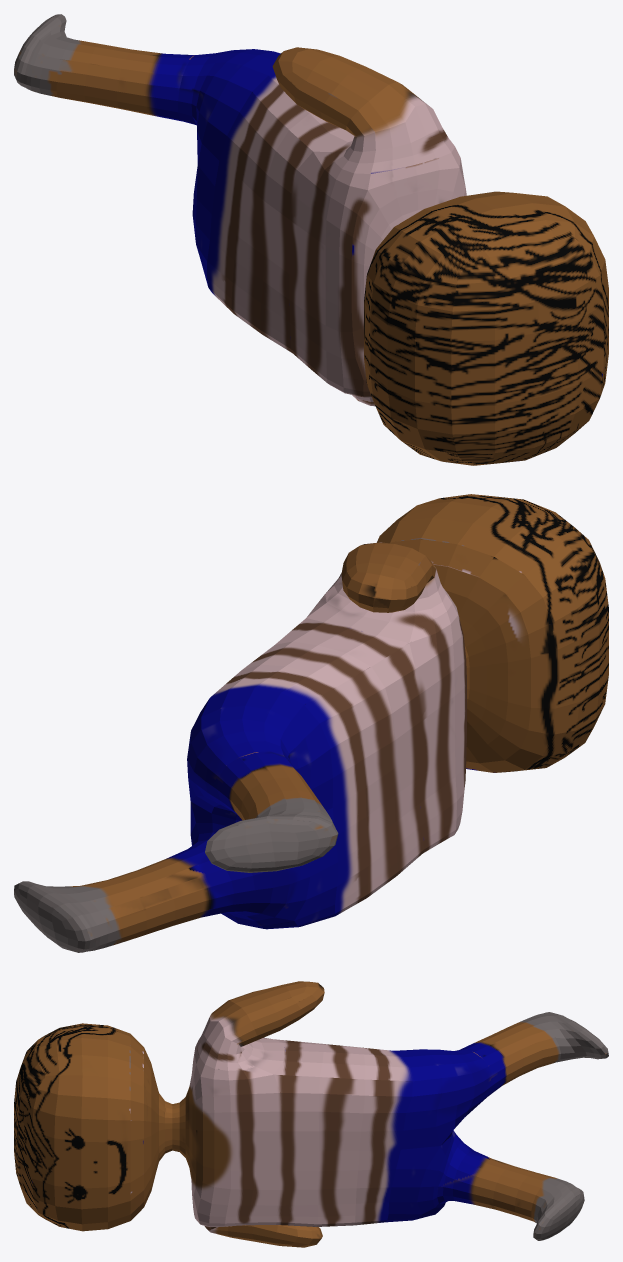
The model's file is antman_walk_1.obj.
3 views of the same model, one above another, from view 1: azimuth 30°, elevation 25°; view 2: azimuth 150°, elevation 25°; view 3: azimuth 270°, elevation 25° (orthographic). The views are drawn at different scales.
Parts seen in each view (by area): view 1: Cube; view 2: Cube; view 3: Cube.
Boxes of the visible parts, bbox=[...] form: Cube: bbox=[14, 14, 608, 465]; Cube: bbox=[14, 494, 608, 952]; Cube: bbox=[14, 981, 608, 1247].
Bounding box in the file's own units: 0.8831 × 0.849 × 1.94.
